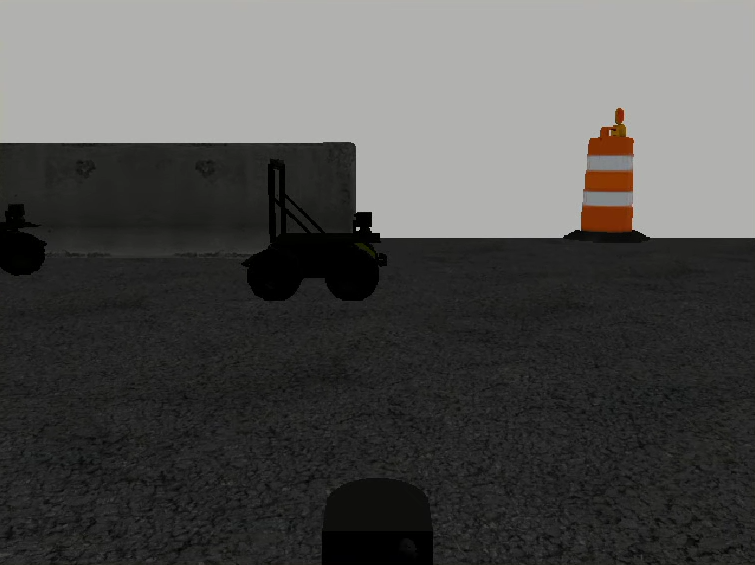husky: (241, 211, 389, 301)
